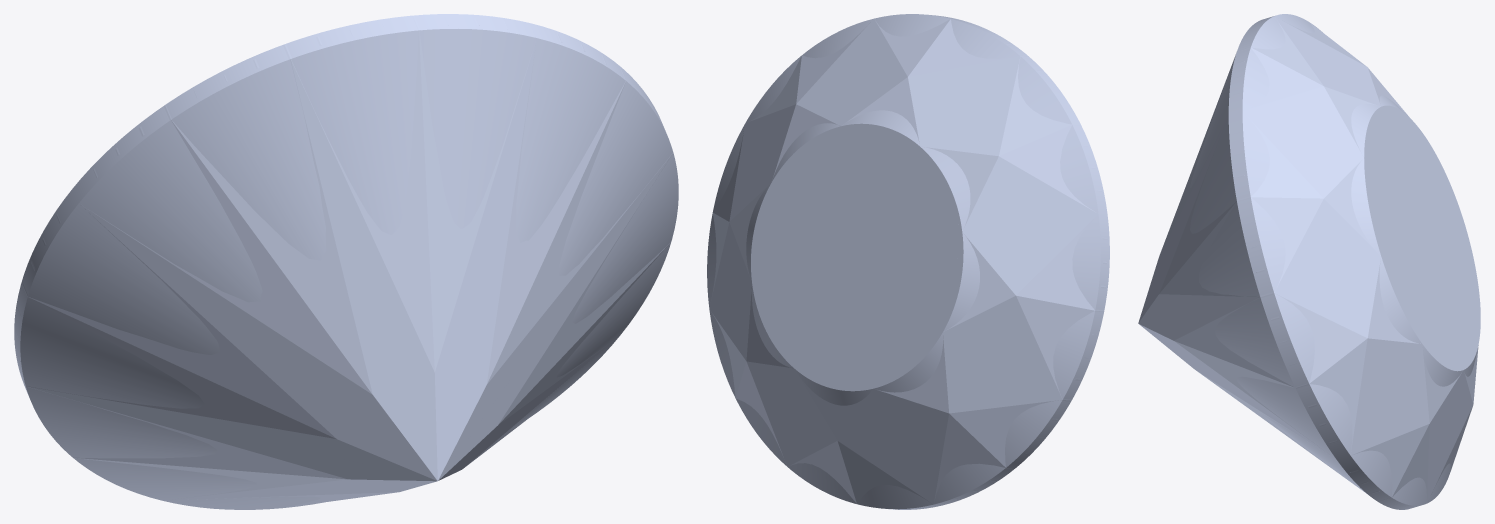
The picture shows the model from 3 angles, left to right: view 1: azimuth 30°, elevation 25°; view 2: azimuth 150°, elevation 25°; view 3: azimuth 270°, elevation 25°; orthographic projection. The views are drawn at different scales.
Visible parts, largest first — view 1: nodes[1], nodes[6]; view 2: nodes[6], nodes[1]; view 3: nodes[6], nodes[1].
Part boxes in pixels (left/top/right/bottom): nodes[1]: left=14, top=14, right=678, bottom=509; nodes[6]: left=16, top=15, right=673, bottom=508; nodes[6]: left=709, top=15, right=1107, bottom=509; nodes[1]: left=707, top=14, right=1109, bottom=509; nodes[6]: left=1138, top=16, right=1478, bottom=508; nodes[1]: left=1190, top=14, right=1480, bottom=509.
Size of the model in its own units: 0.0156 by 0.0147 by 0.0105.
